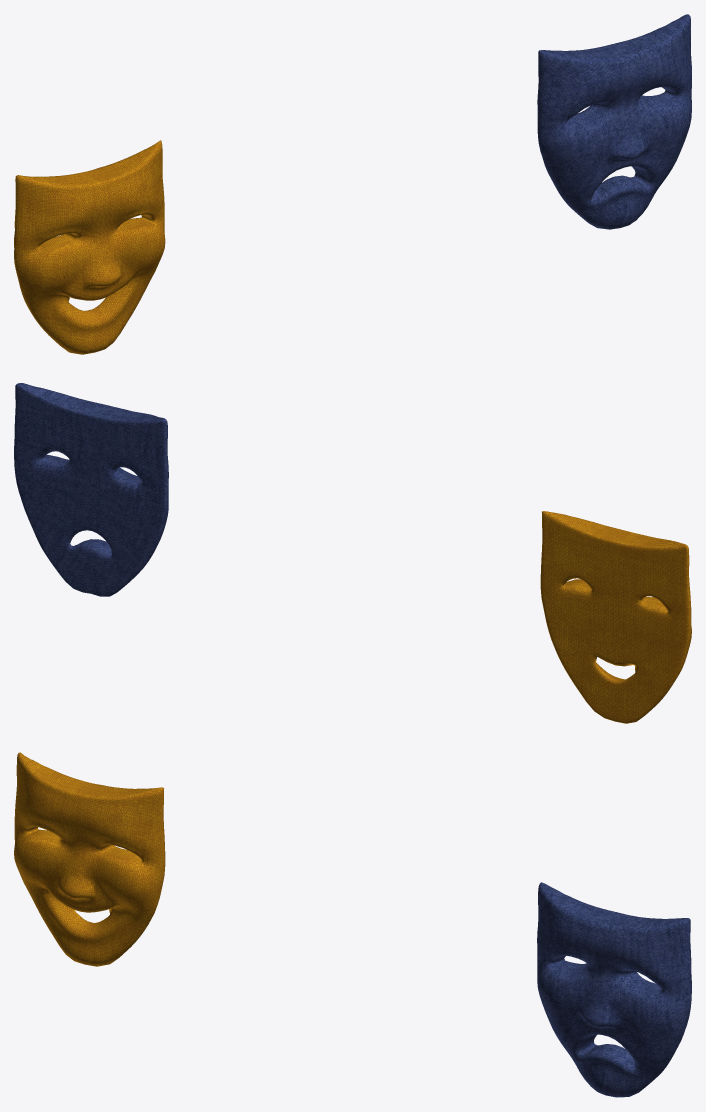
Rendered from Masks.fbx.
The picture shows the model from 3 angles, top to bottom: view 1: azimuth 30°, elevation 25°; view 2: azimuth 150°, elevation 25°; view 3: azimuth 330°, elevation 25°; orthographic projection.
Parts seen in each view (by area): view 1: Retopo_Tradegy.001, Retopo_Comedy.003; view 2: Retopo_Tradegy.001, Retopo_Comedy.003; view 3: Retopo_Tradegy.001, Retopo_Comedy.003.
Part boxes in pixels (<box>): Retopo_Tradegy.001: <box>537,14,691,229</box>; Retopo_Comedy.003: <box>14,140,165,354</box>; Retopo_Tradegy.001: <box>14,383,168,596</box>; Retopo_Comedy.003: <box>540,511,691,723</box>; Retopo_Tradegy.001: <box>537,882,691,1097</box>; Retopo_Comedy.003: <box>14,752,165,966</box>.
Bounding box in the file's own units: 310 × 85.25 × 17.83.
Materials: 2 (2 with a texture image).
